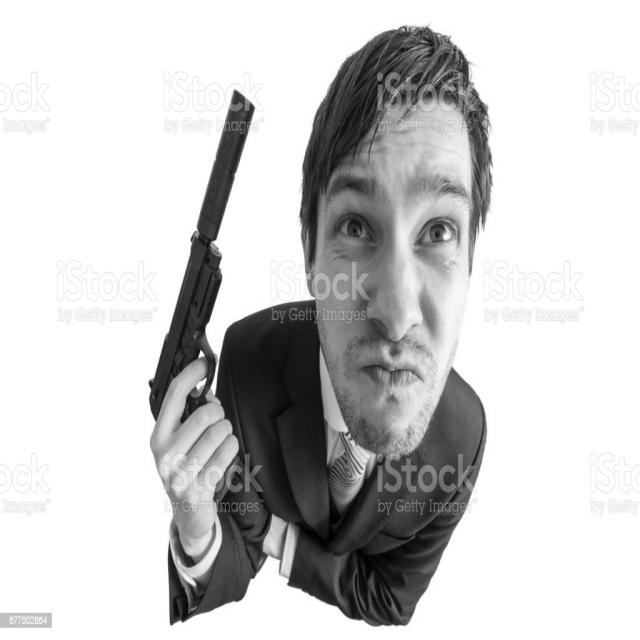gun: (150, 92, 256, 494)
